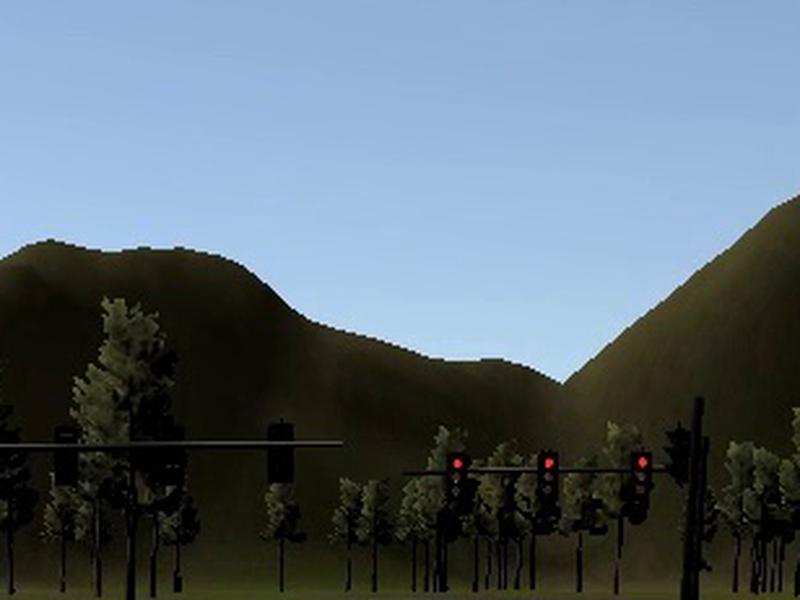Red: (445, 450, 469, 500), (629, 451, 652, 496), (539, 452, 559, 498)
